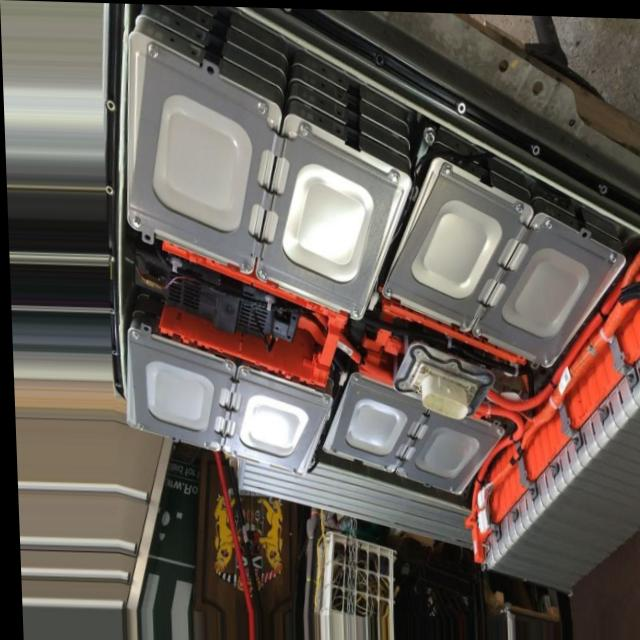Battery Module: (130, 69, 264, 253), (256, 134, 400, 305), (394, 176, 514, 321), (332, 388, 486, 485), (485, 229, 601, 352), (131, 349, 221, 438), (226, 384, 314, 463)
Bolt: (292, 118, 319, 136), (382, 164, 404, 186), (311, 389, 331, 408), (144, 39, 162, 59), (417, 121, 438, 137), (233, 361, 250, 380), (486, 419, 502, 439), (255, 94, 271, 112), (435, 159, 453, 175), (344, 307, 364, 321), (215, 359, 235, 373), (125, 326, 139, 345), (605, 247, 617, 266), (124, 213, 139, 228), (509, 200, 524, 213), (539, 215, 554, 227), (254, 269, 265, 283)
Cable: (467, 289, 637, 518), (475, 248, 640, 439)
